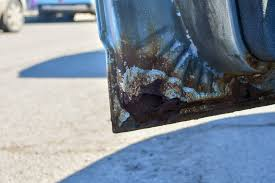rust: (102, 37, 264, 129)
